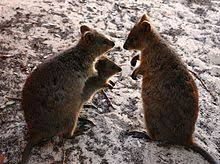quokka: (121, 13, 213, 164)
